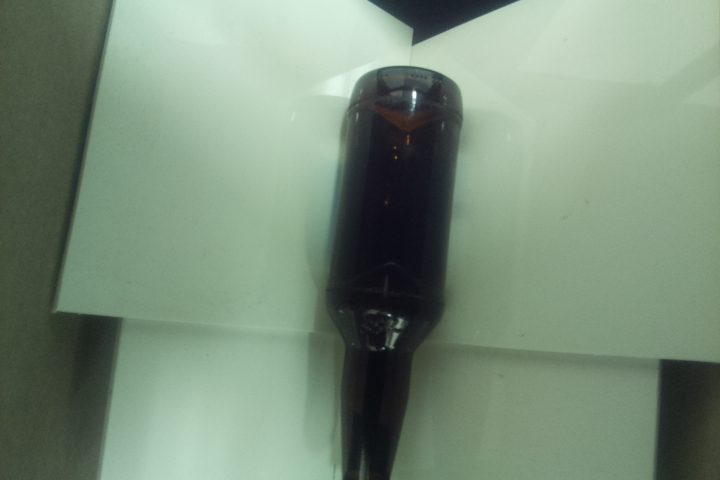makju: (317, 66, 465, 480)
